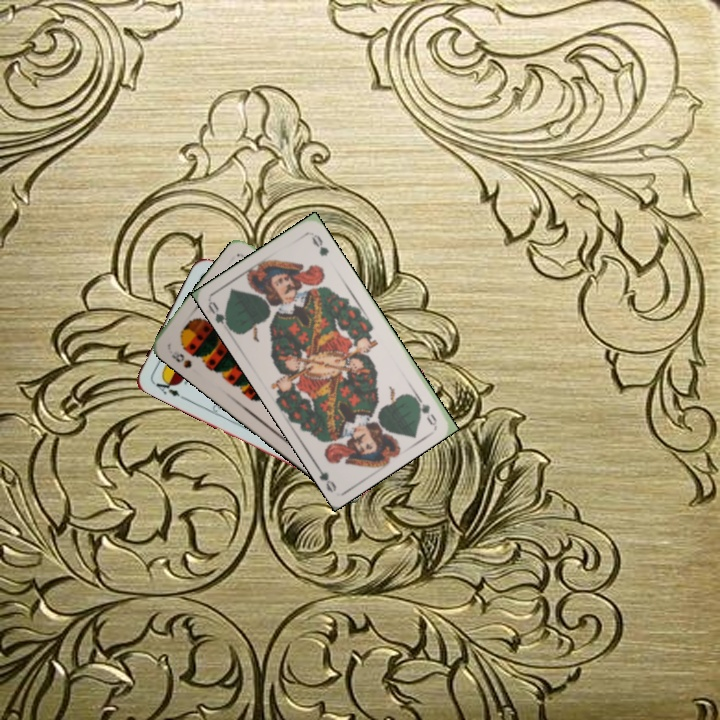EA: (149, 374, 182, 399)
GO: (408, 389, 440, 427), (204, 297, 235, 334)
S8: (167, 347, 195, 371)
